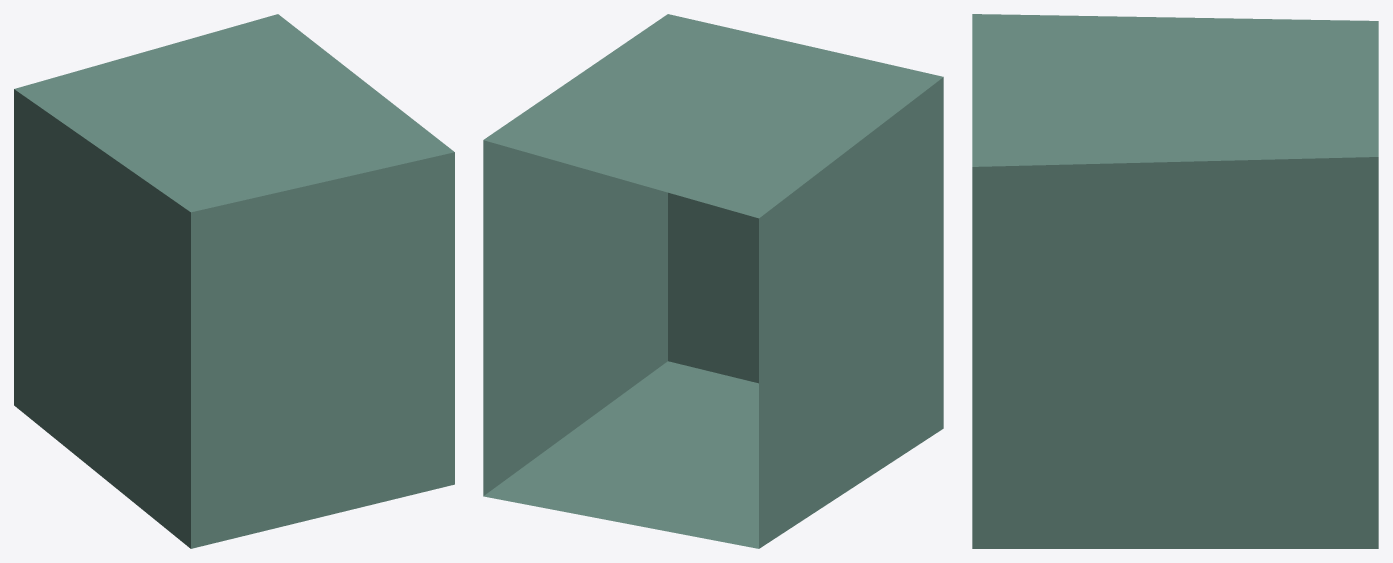
The model's file is Bricks_Half.glb.
3 renders of one model, left to right at view 1: azimuth 30°, elevation 25°; view 2: azimuth 150°, elevation 25°; view 3: azimuth 270°, elevation 25°, orthographic. The views are drawn at different scales.
Parts seen in each view (by area): view 1: Bricks_Half; view 2: Bricks_Half; view 3: Bricks_Half.
Part boxes in pixels (x1,y1,x2,y2): Bricks_Half: (14,14,454,548); Bricks_Half: (483,14,943,548); Bricks_Half: (972,14,1378,548).
Size of the model in its own units: 0.1176 by 0.1452 by 0.1364.
1 material, 1 textured.
